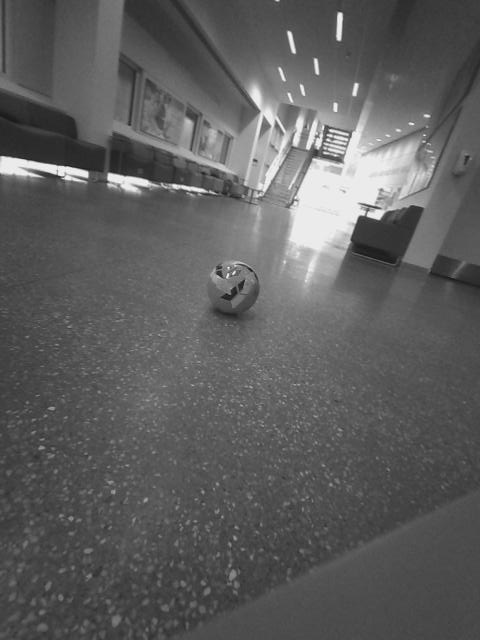ball: (294, 246, 327, 280)
